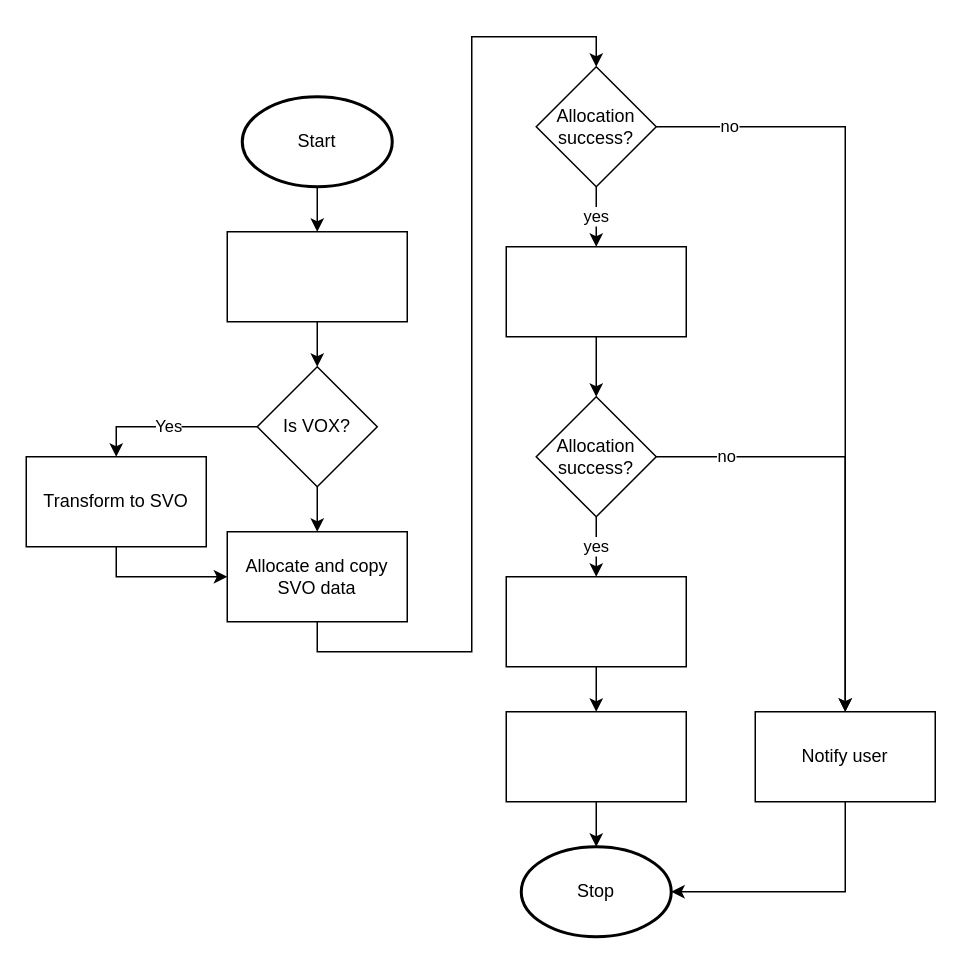
The diagram is 962 pixels wide and 965 high, and some of its shapes have lost their labels. Here are the shapes that lost their labels. From the top down, the centre of each, then its label:
the point at 316,276: Read file
the point at 595,291: Allocate and copy material data
the point at 595,621: Calculate buffer offsets and allocate model info structure
the point at 595,756: Rebuild BVH
